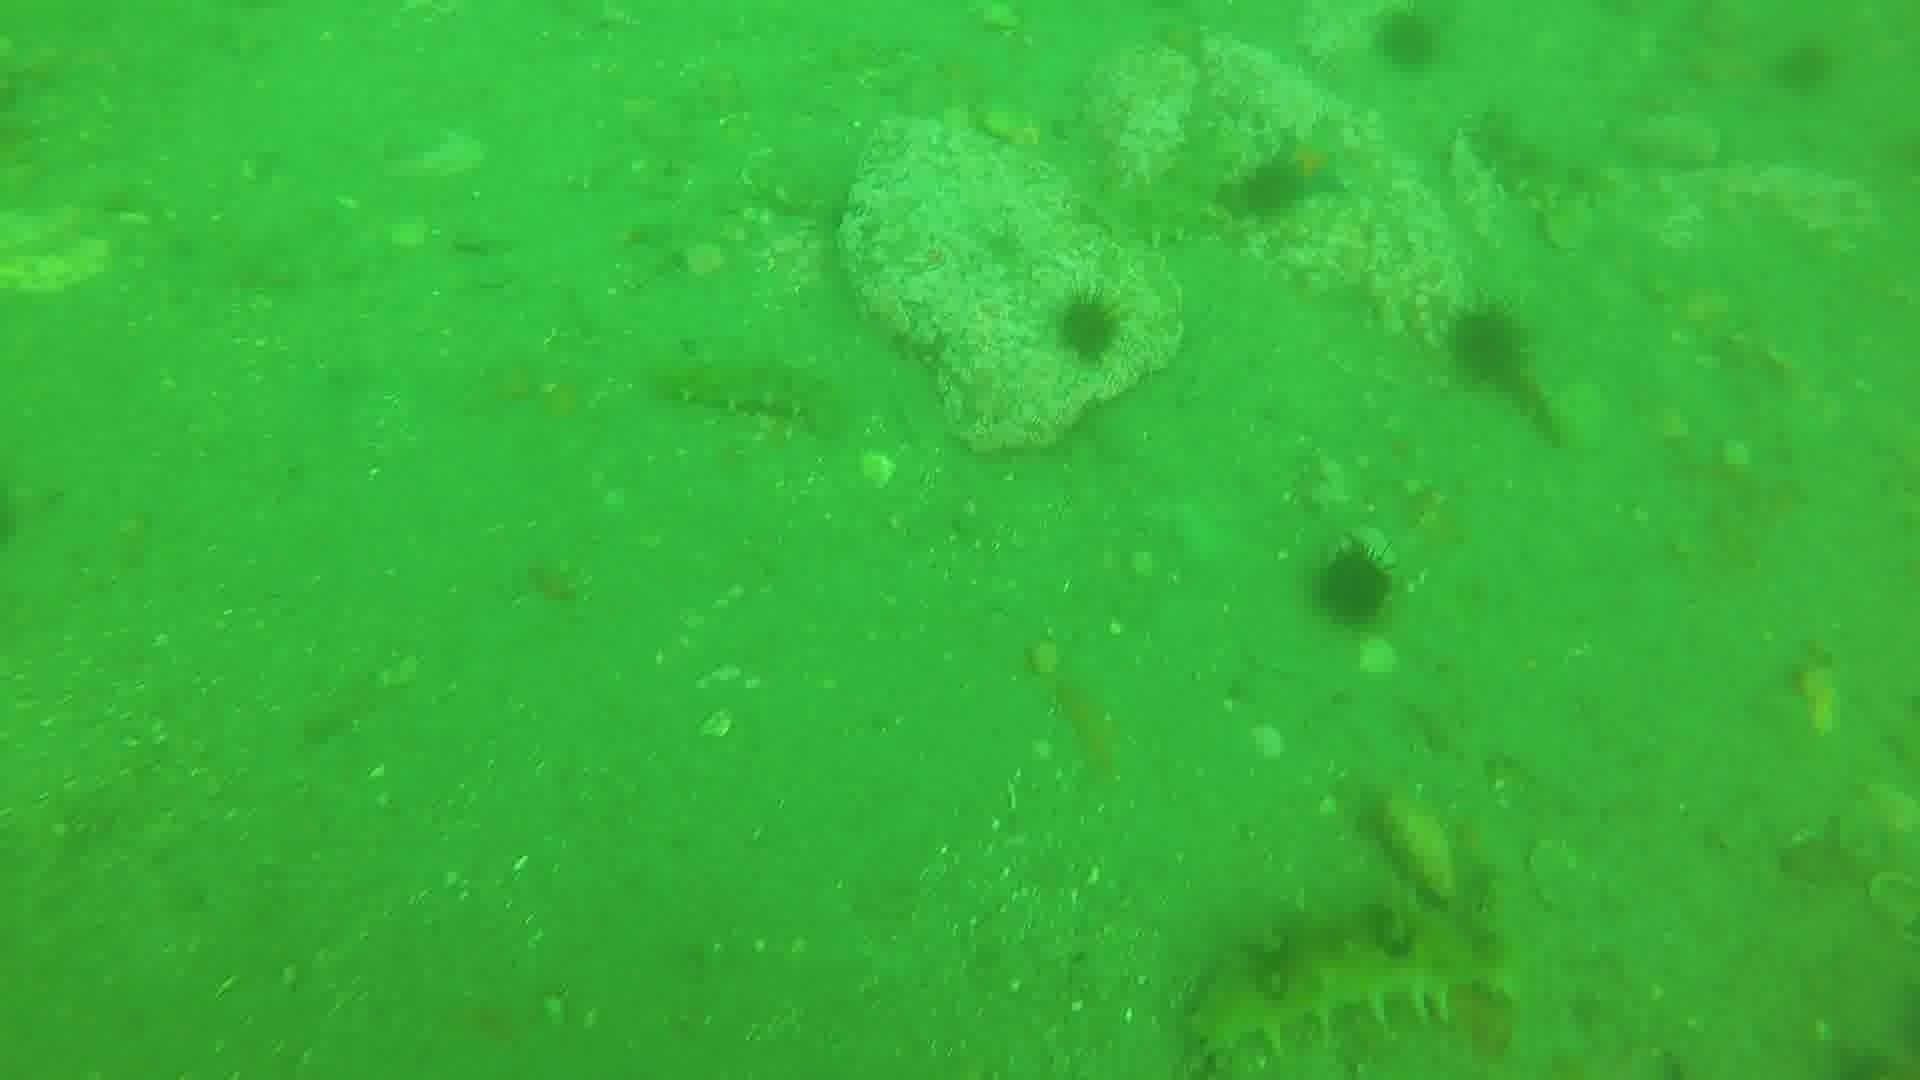echinus: (1439, 301, 1534, 392), (1307, 541, 1400, 632), (1047, 286, 1130, 368), (1222, 156, 1309, 227), (1367, 7, 1451, 76), (1764, 36, 1841, 98)
holothurian: (1188, 895, 1520, 1065), (1079, 117, 1247, 253), (645, 343, 845, 433), (1458, 102, 1609, 220)
starfish: (1259, 123, 1357, 207)
